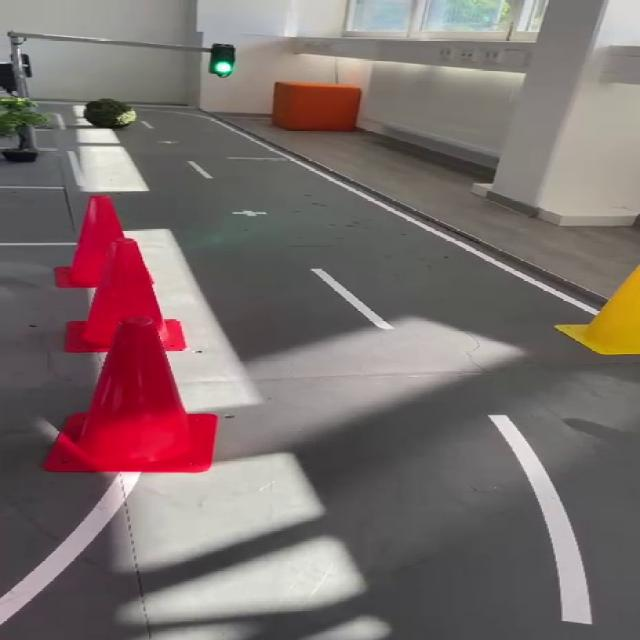Cone-red: (44, 318, 217, 472), (66, 238, 175, 352), (58, 196, 123, 287)
Cones-yellow: (554, 265, 639, 355)
